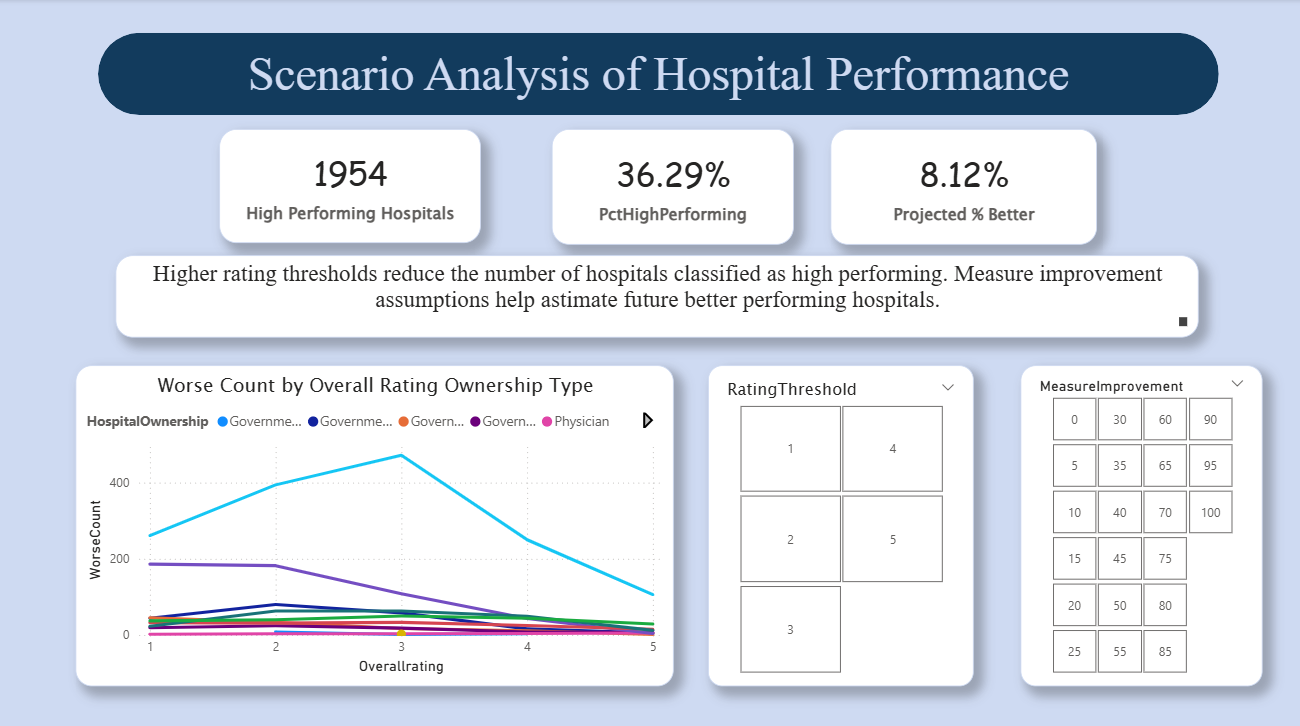

Layout of this report page (visuals, bound fields, positions):
{"tool":"powerbi","page":{"name":"Scenario Analysis","canvas":[1280,720],"ordinal":2},"visuals":[{"type":"slicer","fields":{"Values":["RatingThreshold.RatingThreshold"]},"box":[697.3,359.5,260.6,314.9],"z":0},{"type":"slicer","fields":{"Values":["MeasureImprovement.MeasureImprovement"]},"box":[1003.8,359.5,237.7,314.9],"z":1000},{"type":"lineChart","title":"Worse Count by Overall Rating Ownership Type","fields":{"Category":["Hospital.Overallrating"],"Y":["FactPerformance.WorseCount"],"Series":["Dim_Ownership.HospitalOwnership"]},"box":[76,359.5,587.5,314.9],"z":2000},{"type":"shape","box":[97.7,32.6,1100.3,80.8],"z":3000},{"type":"card","fields":{"Values":["DAX_Measures.HighPerformingHospitals"]},"box":[217.2,127.9,257,112.2],"z":4000},{"type":"card","fields":{"Values":["DAX_Measures.PctHighPerforming"]},"box":[544.1,127.9,237.7,113.4],"z":5000},{"type":"card","fields":{"Values":["DAX_Measures.ProjectedPctBetter"]},"box":[816.8,127.9,261.8,113.4],"z":6000},{"type":"textbox","title":"Higher rating thresholds reduce the number of hospitals classified as high performing. Measure improvement assumptions help astimate future better performing hospitals.","box":[115.8,250.9,1062.9,80.8],"z":7000}]}

Visuals, with their boxes in screenshot pixels (x1, y1, x2, y2), scaled from the page's 1280x720 canvas onto the 1300x726 screenshot:
slicer - RatingThreshold.RatingThreshold: 708, 362, 973, 680
slicer - MeasureImprovement.MeasureImprovement: 1019, 362, 1261, 680
"Worse Count by Overall Rating Ownership Type" lineChart: 77, 362, 674, 680
shape: 99, 33, 1217, 114
card - DAX_Measures.HighPerformingHospitals: 221, 129, 482, 242
card - DAX_Measures.PctHighPerforming: 553, 129, 794, 243
card - DAX_Measures.ProjectedPctBetter: 830, 129, 1095, 243
"Higher rating thresholds reduce the number of hospitals classified as high performing. Measure improvement assumptions help astimate future better performing hospitals." textbox: 118, 253, 1197, 334
